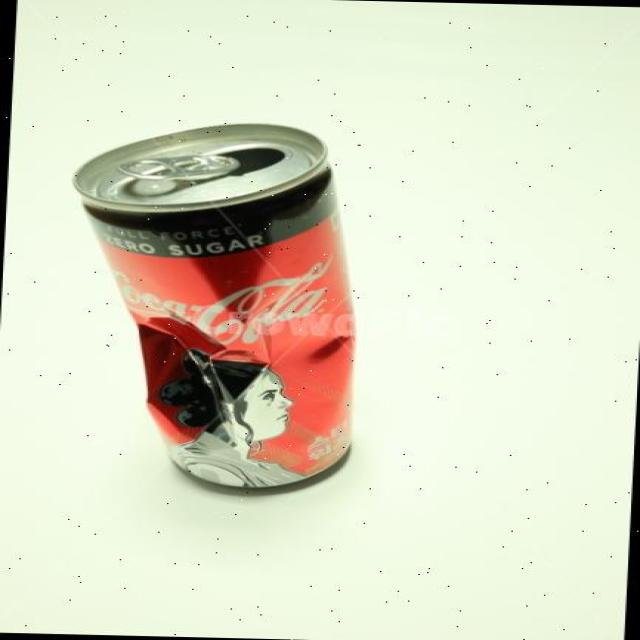coca-cola: (59, 115, 383, 500)
